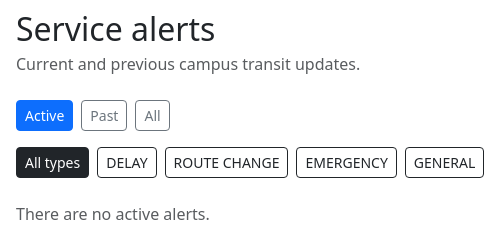
it: AlertsPage › shows an empty message for each status tab
This screenshot has width=501, height=242.
Expected: the text "There are no active alerts." is shown, [16,203,210,225]
Click the tab "Past" at (104, 116), box [81,100,127,131]
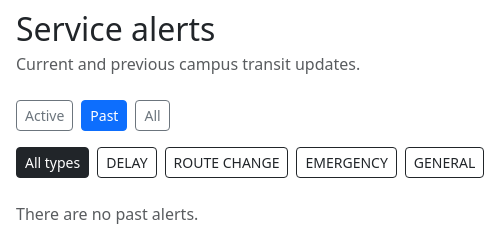
Result: the text "There are no past alerts." is shown at [16,203,198,225]
Click the tab "All" at (152, 116), box [135,100,170,131]
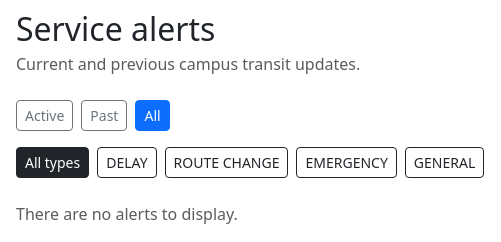
Result: the text "There are no alerts to display." is shown at [16,203,238,225]
